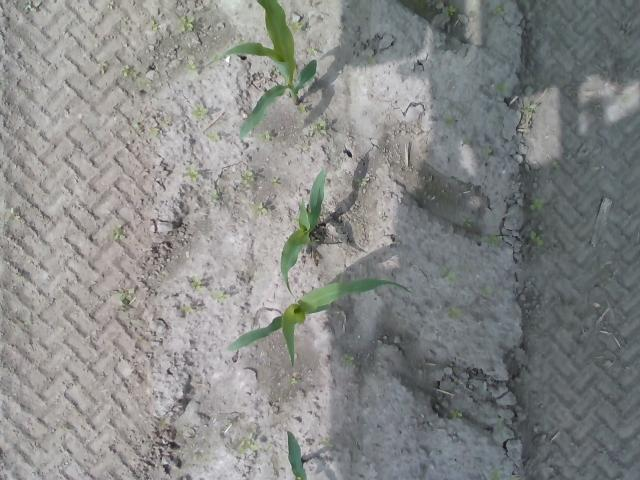Maize: (225, 277, 415, 367), (210, 0, 318, 139), (279, 171, 327, 299), (286, 428, 307, 480)
Weeds: (177, 15, 194, 32), (238, 436, 256, 452), (190, 103, 208, 119), (529, 232, 544, 248), (483, 234, 502, 246), (440, 266, 457, 278), (113, 224, 124, 241), (314, 120, 327, 134), (443, 3, 458, 15), (210, 290, 226, 301), (183, 63, 200, 73), (498, 81, 511, 94), (341, 353, 354, 366), (289, 20, 303, 32), (240, 172, 254, 184), (186, 168, 198, 182), (530, 198, 544, 210), (256, 206, 272, 216), (120, 64, 132, 77), (208, 190, 220, 202), (146, 20, 158, 32), (260, 130, 272, 142), (448, 308, 461, 319), (148, 126, 160, 137), (114, 292, 125, 303), (524, 104, 535, 114), (450, 408, 462, 417), (443, 114, 452, 126), (192, 280, 202, 290), (208, 131, 218, 140), (297, 104, 308, 112), (495, 5, 504, 14), (288, 378, 298, 384)
